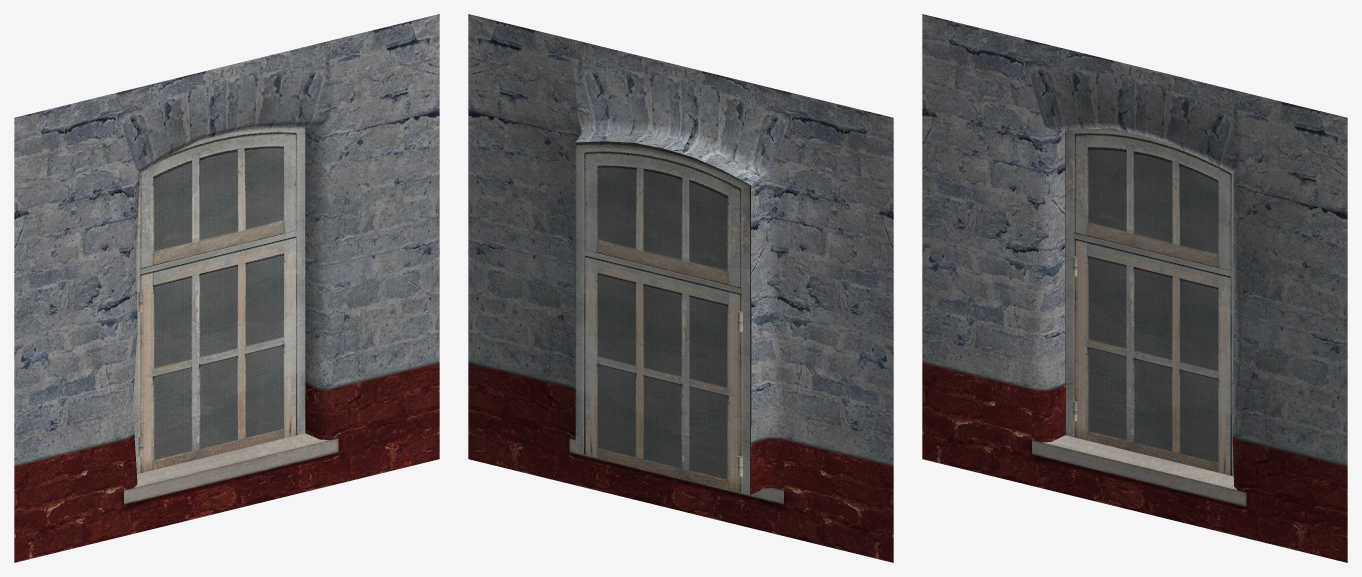
The model's file is factory_corridor_01.DAE.
The picture shows the model from 3 angles, left to right: view 1: azimuth 30°, elevation 25°; view 2: azimuth 150°, elevation 25°; view 3: azimuth 330°, elevation 25°; orthographic projection.
Visible parts, largest first — view 1: Object020, Object021; view 2: Object020, Object021; view 3: Object020, Object021.
Part boxes in pixels (bbox=[...]): Object020: bbox=[14, 14, 439, 516]; Object021: bbox=[14, 39, 439, 562]; Object020: bbox=[468, 14, 893, 516]; Object021: bbox=[468, 39, 893, 562]; Object020: bbox=[922, 14, 1347, 516]; Object021: bbox=[922, 37, 1347, 562].
Size of the model in its own units: 4 by 4 by 0.2395.
